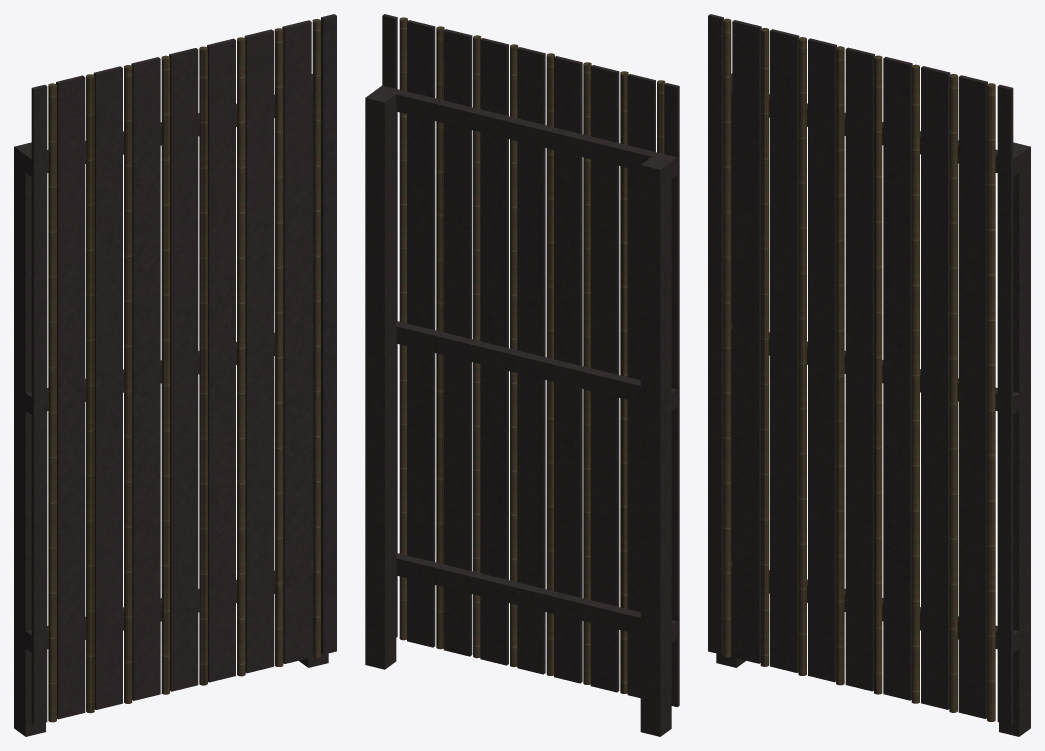
File: mitutatehari-yamato_h1800_rustydark.fbx
The picture shows the model from 3 angles, left to right: view 1: azimuth 30°, elevation 25°; view 2: azimuth 150°, elevation 25°; view 3: azimuth 330°, elevation 25°; orthographic projection. The views are drawn at different scales.
Parts seen in each view (by area): view 1: mitutatehari-yamato_h1800_rustydark; view 2: mitutatehari-yamato_h1800_rustydark; view 3: mitutatehari-yamato_h1800_rustydark.
Boxes of the visible parts, bbox=[...] form: mitutatehari-yamato_h1800_rustydark: bbox=[14, 14, 336, 736]; mitutatehari-yamato_h1800_rustydark: bbox=[365, 14, 679, 736]; mitutatehari-yamato_h1800_rustydark: bbox=[708, 14, 1030, 736].
Size of the model in its own units: 89.9 by 185 by 11.2.
2 materials, 2 textured.
